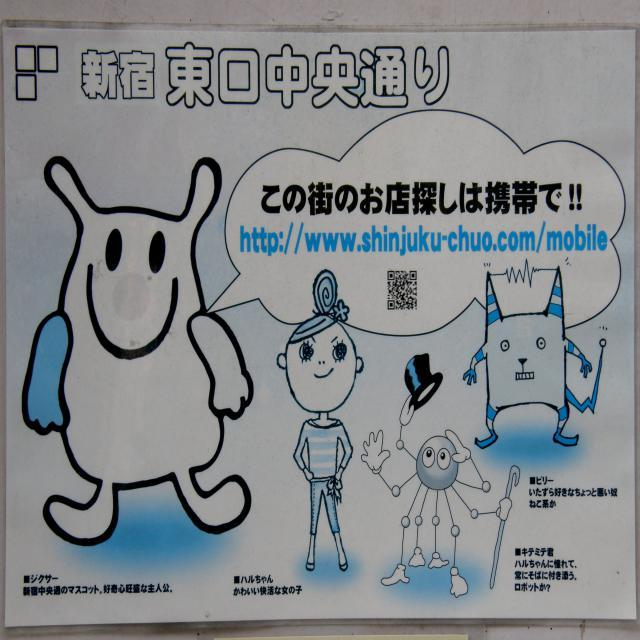qrcode: (389, 272, 418, 310)
